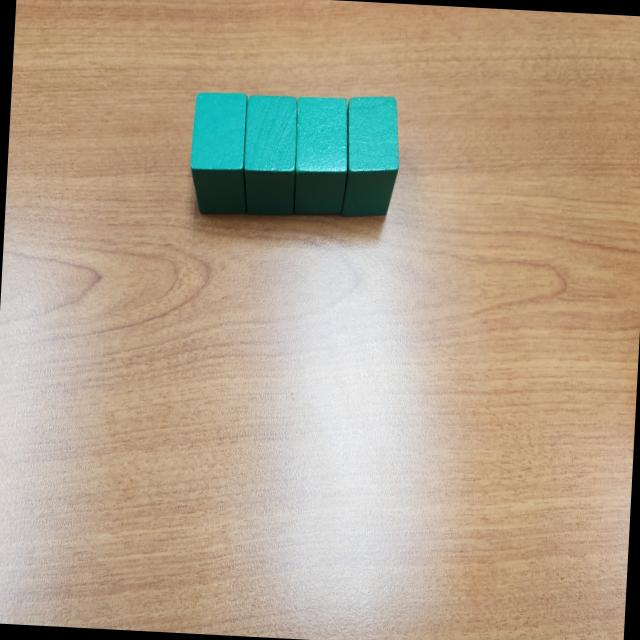green: (187, 90, 254, 217), (340, 94, 402, 220), (290, 95, 352, 220), (242, 92, 300, 216)
